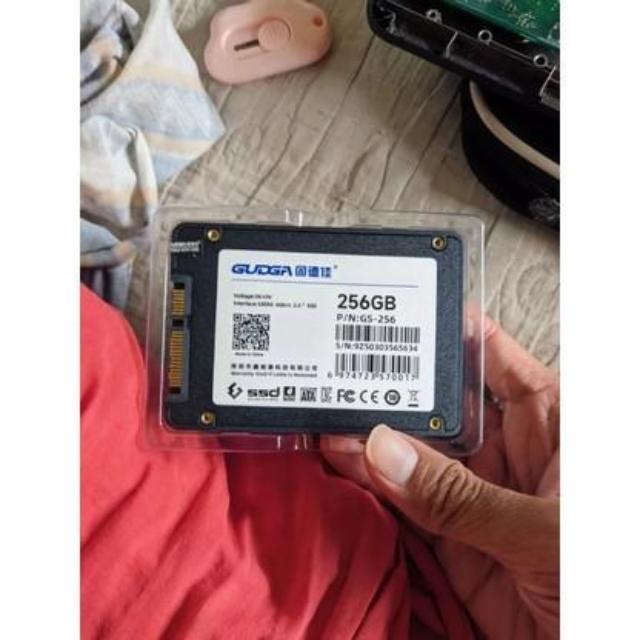DISK: (153, 202, 470, 450)
